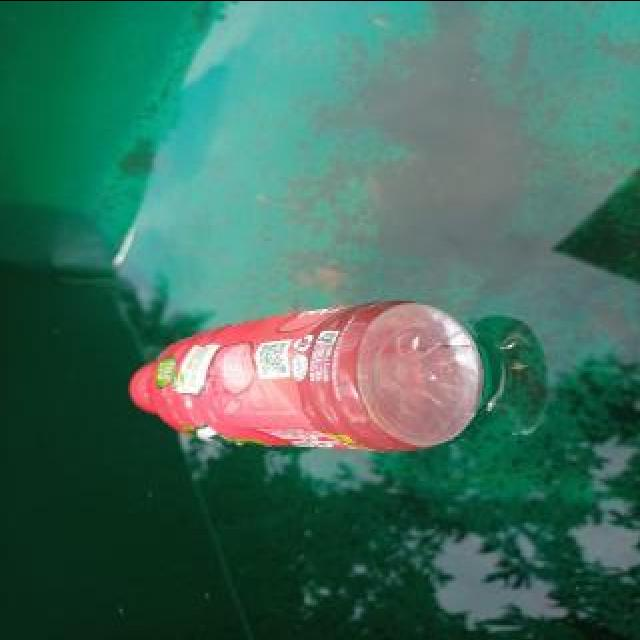Bottle: (130, 298, 502, 459)
